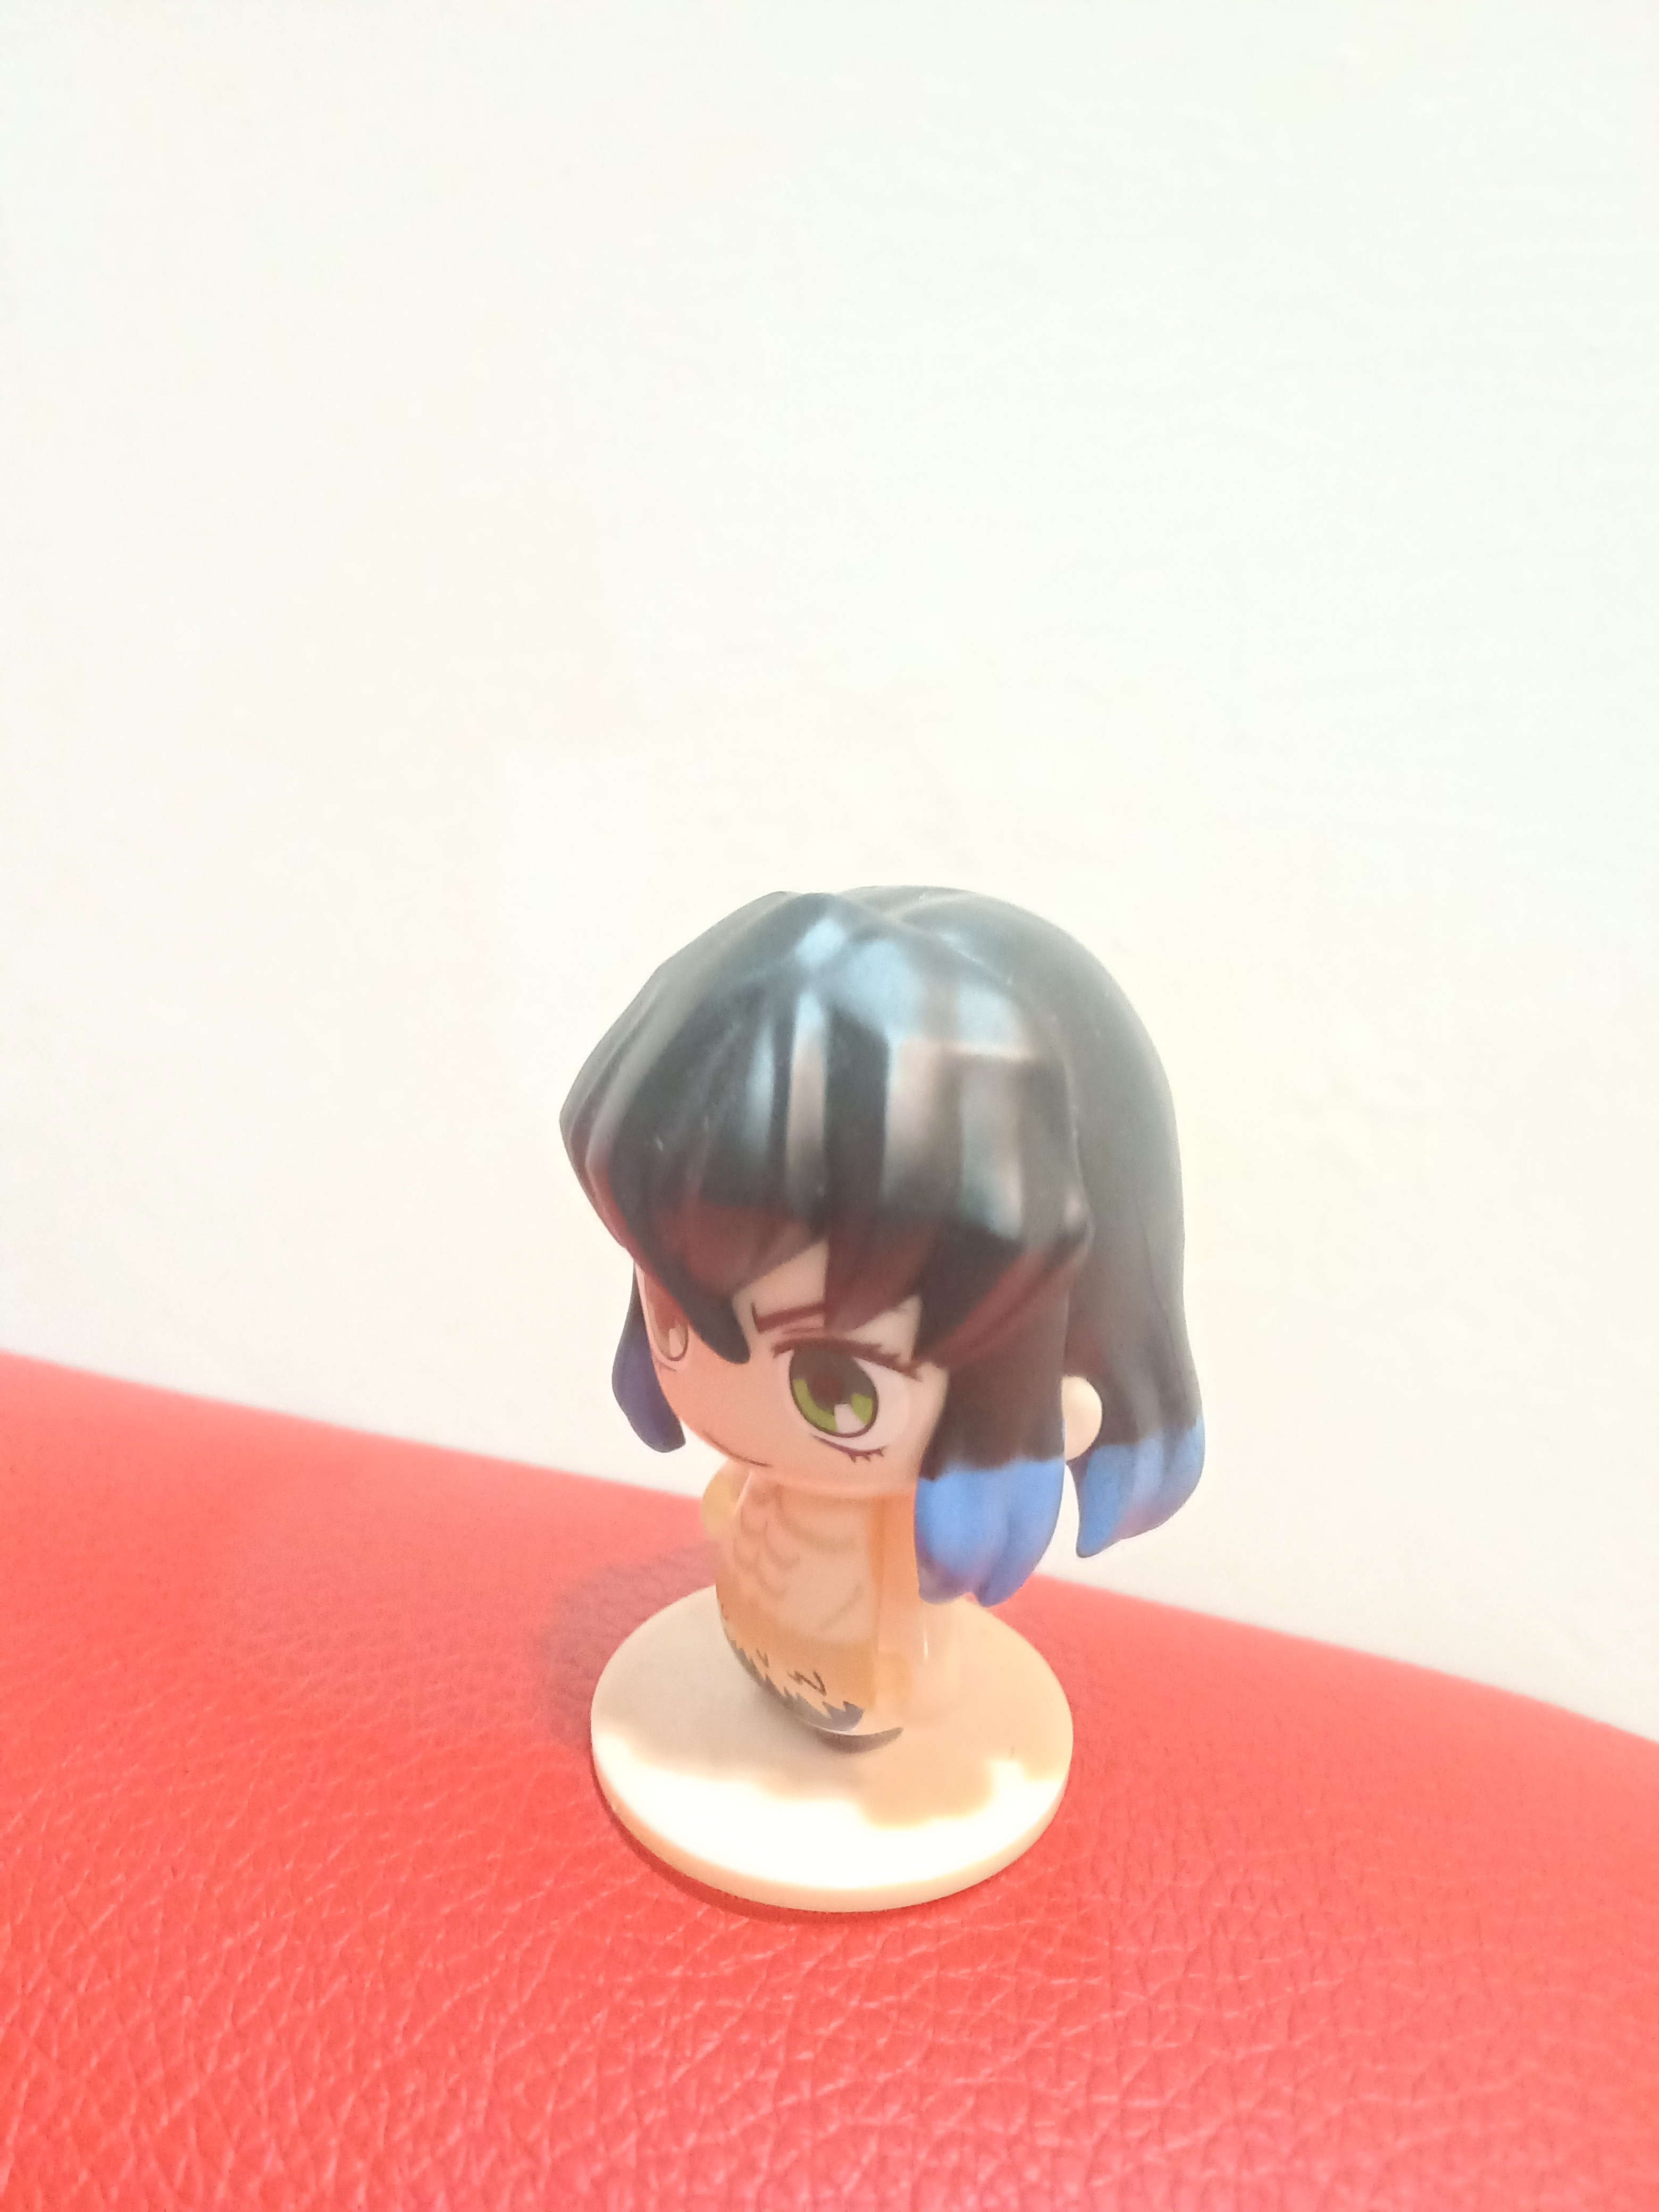Inosuke: (549, 878, 1225, 1946)
